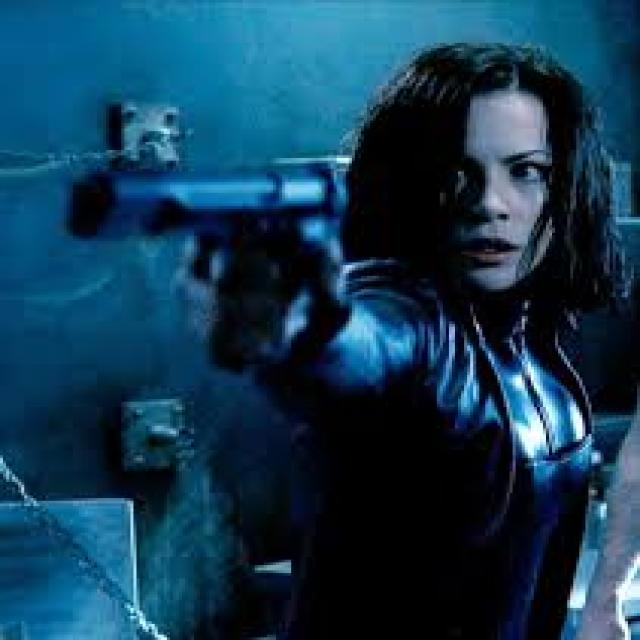gun: (51, 145, 413, 380)
